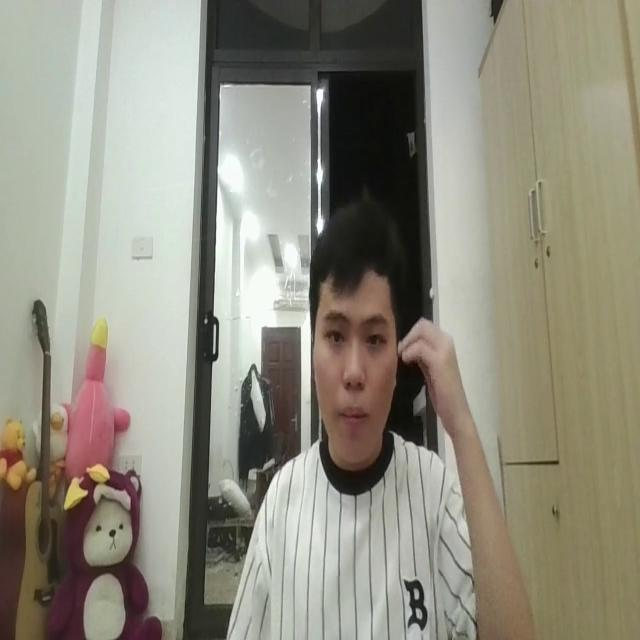student: (225, 188, 533, 640)
